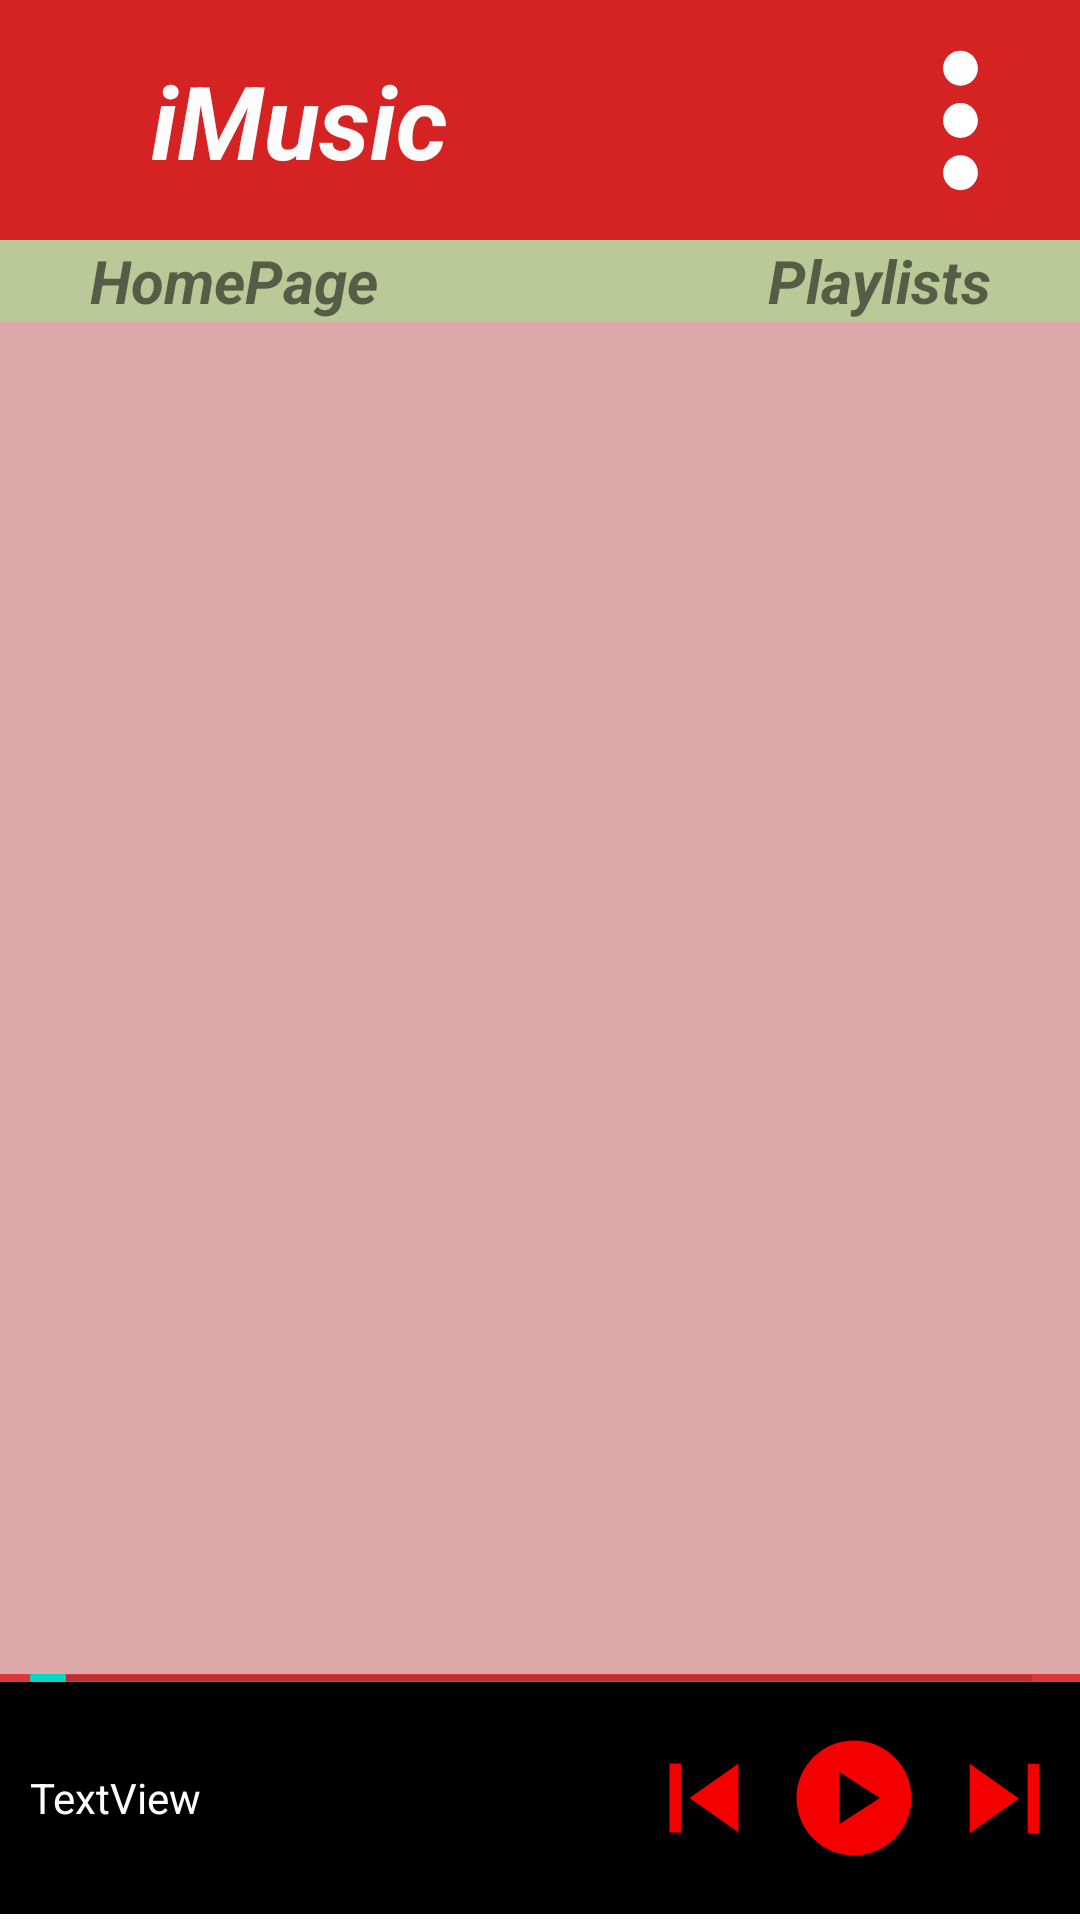

Icons on this 1080px×1920px Android screen, each with the point to tap as (x=x, y=y):
next: (x=1004, y=1798)
play: (x=854, y=1798)
previous: (x=704, y=1798)
vertical dots: (x=960, y=120)
